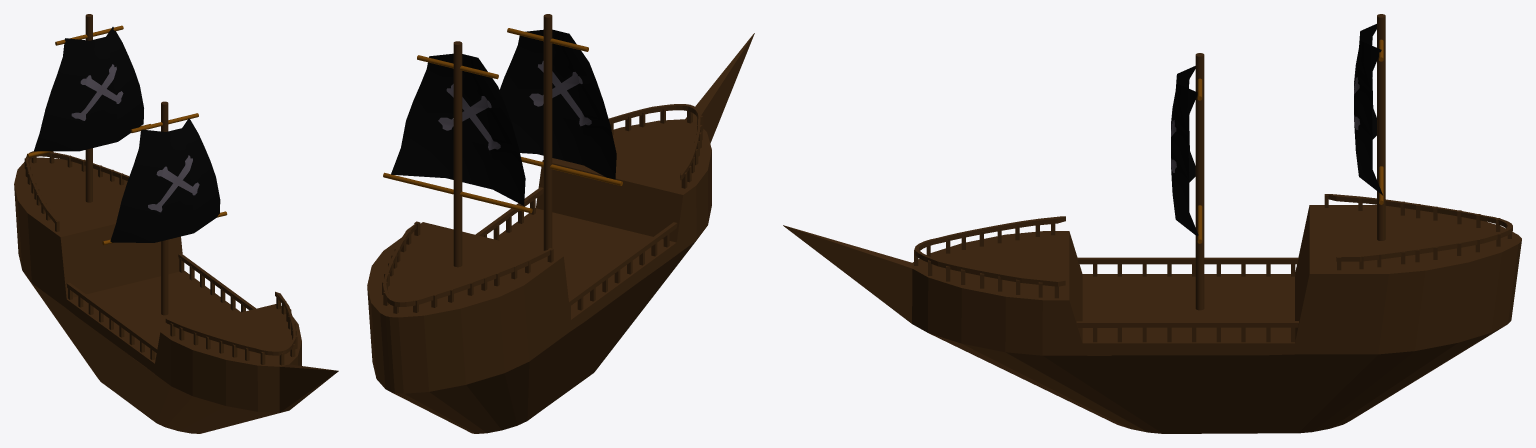
File: gemi.fbx
The picture shows the model from 3 angles, left to right: view 1: azimuth 30°, elevation 25°; view 2: azimuth 150°, elevation 25°; view 3: azimuth 270°, elevation 25°; orthographic projection. The views are drawn at different scales.
Parts seen in each view (by area): view 1: Plane, Plane.002, Plane.001, Cube.011, Cylinder, Cube.019, Cube.018, Cylinder.005, Cube.006; view 2: Plane, Plane.002, Plane.001, Cylinder, Cylinder.005, Cube.019, Cube.018, Cube.011, Cylinder.004, Cube.006, Cylinder.001, Cylinder.003 (+1 smaller); view 3: Plane, Plane.001, Plane.002, Cylinder, Cube.019, Cube.011, Cylinder.005, Cube.018, Cube.006.
Boxes of the visible parts, x1,y1,x2,y2 form: Plane: [14, 157, 338, 433]; Plane.002: [34, 27, 143, 151]; Plane.001: [110, 118, 220, 242]; Cube.011: [165, 291, 295, 355]; Cylinder: [161, 101, 168, 315]; Cube.019: [25, 151, 129, 223]; Cube.018: [66, 282, 157, 360]; Cylinder.005: [85, 14, 92, 202]; Cube.006: [178, 253, 255, 310]; Plane: [367, 33, 754, 433]; Plane.002: [391, 53, 525, 205]; Plane.001: [499, 29, 616, 179]; Cylinder: [543, 14, 552, 250]; Cylinder.005: [453, 41, 462, 267]; Cube.019: [383, 222, 551, 306]; Cube.018: [568, 222, 677, 305]; Cube.011: [608, 104, 700, 180]; Cylinder.004: [383, 172, 532, 213]; Cube.006: [475, 187, 543, 236]; Cylinder.001: [521, 157, 622, 185]; Cylinder.003: [417, 55, 498, 79]; Plane: [783, 205, 1521, 433]; Plane.001: [1171, 66, 1198, 236]; Plane.002: [1354, 24, 1382, 195]; Cylinder: [1195, 53, 1204, 310]; Cube.019: [1326, 194, 1512, 261]; Cube.011: [914, 216, 1065, 286]; Cylinder.005: [1377, 14, 1385, 240]; Cube.018: [1077, 257, 1298, 276]; Cube.006: [1076, 321, 1298, 342].
Bounding box in the file's own units: 3220 × 8409 × 13932.
